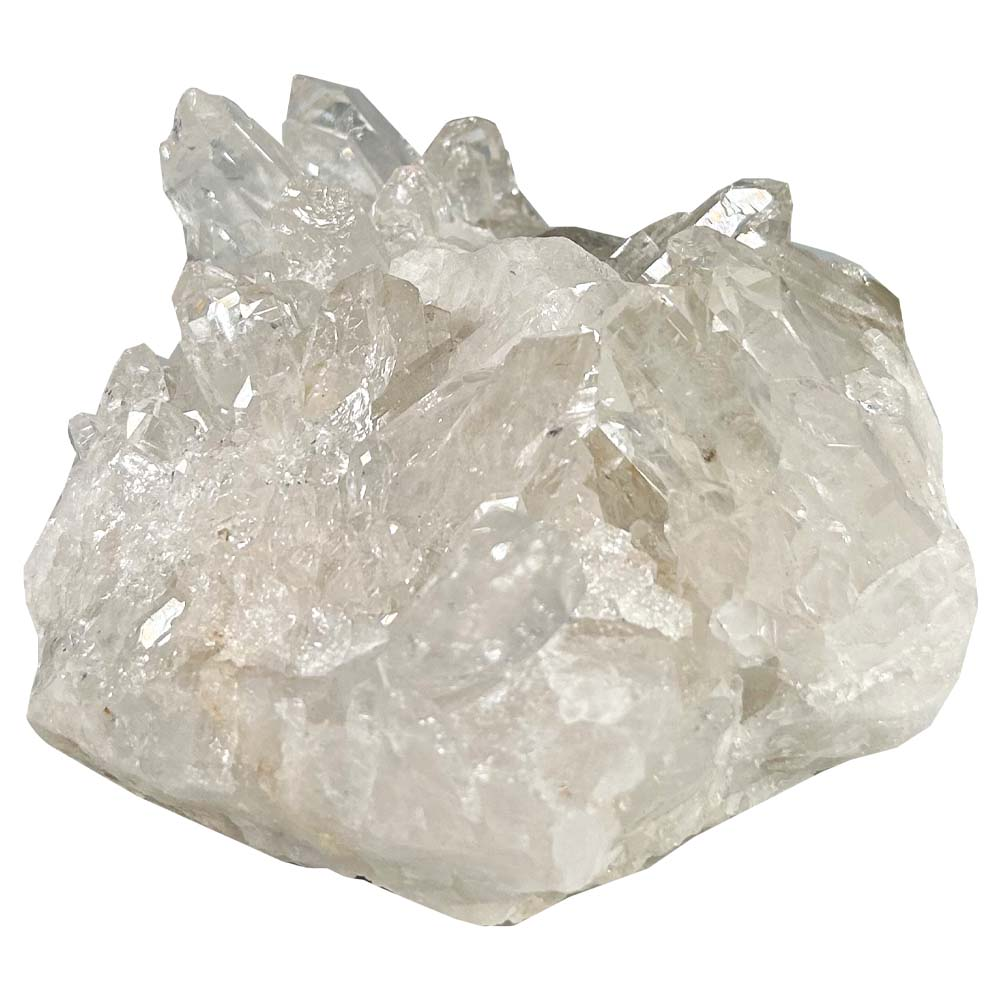Clear_Quartz: (20, 71, 980, 932)
